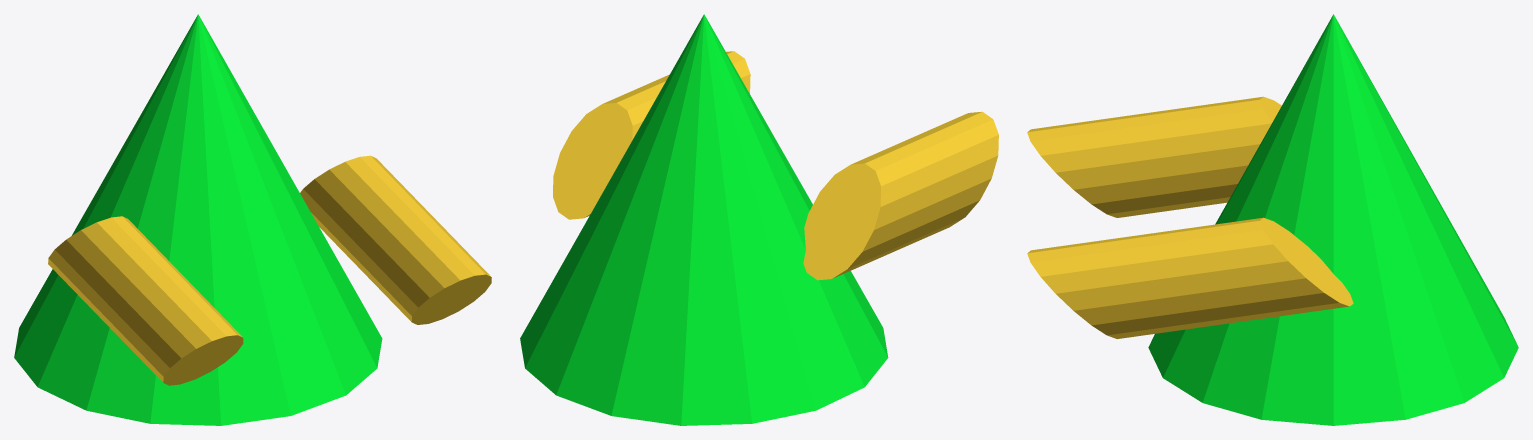
The model's file is test_model4.shd.fbx.
3 views of the same model, side by side, from view 1: azimuth 30°, elevation 25°; view 2: azimuth 150°, elevation 25°; view 3: azimuth 270°, elevation 25° (orthographic).
Visible parts, largest first — view 1: Curved Surface, Extruded Disk_ncl1_5, Extruded Disk_ncl1_2, Extruded Disk, Extruded Disk_ncl1_3; view 2: Curved Surface, Extruded Disk_ncl1_5, Extruded Disk_ncl1_4, Extruded Disk_ncl1_1, Extruded Disk_ncl1_2; view 3: Curved Surface, Extruded Disk_ncl1_2, Extruded Disk_ncl1_5, Extruded Disk_ncl1_1.
Part boxes in pixels (box(x1,y1,x2,y2)): Curved Surface: box(14, 14, 382, 425); Extruded Disk_ncl1_5: box(48, 216, 242, 382); Extruded Disk_ncl1_2: box(300, 155, 490, 321); Extruded Disk: box(411, 274, 491, 324); Extruded Disk_ncl1_3: box(163, 335, 243, 385); Curved Surface: box(520, 14, 888, 425); Extruded Disk_ncl1_5: box(833, 111, 998, 278); Extruded Disk_ncl1_4: box(803, 163, 880, 280); Extruded Disk_ncl1_1: box(553, 103, 632, 219); Extruded Disk_ncl1_2: box(584, 51, 750, 217); Curved Surface: box(1148, 14, 1518, 425); Extruded Disk_ncl1_2: box(1027, 217, 1349, 338); Extruded Disk_ncl1_5: box(1027, 97, 1272, 217); Extruded Disk_ncl1_1: box(1260, 218, 1353, 306).
Bounding box in the file's own units: 90.55 × 90 × 120.
